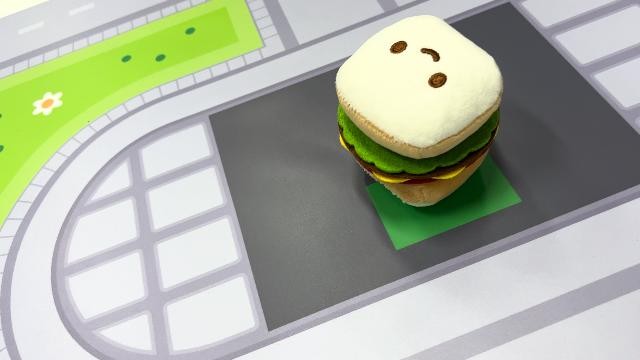sandwich: (332, 14, 506, 208)
